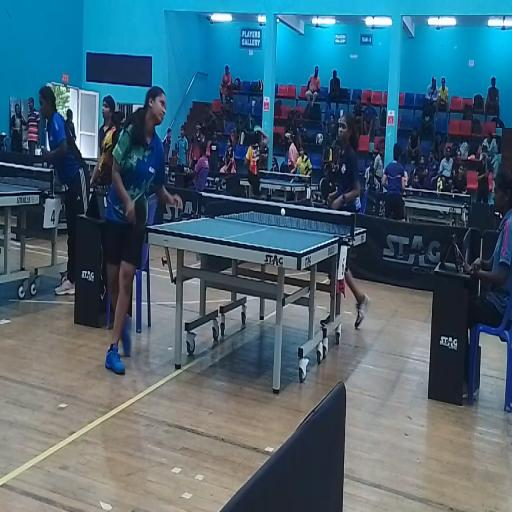ball: (280, 208, 286, 215)
